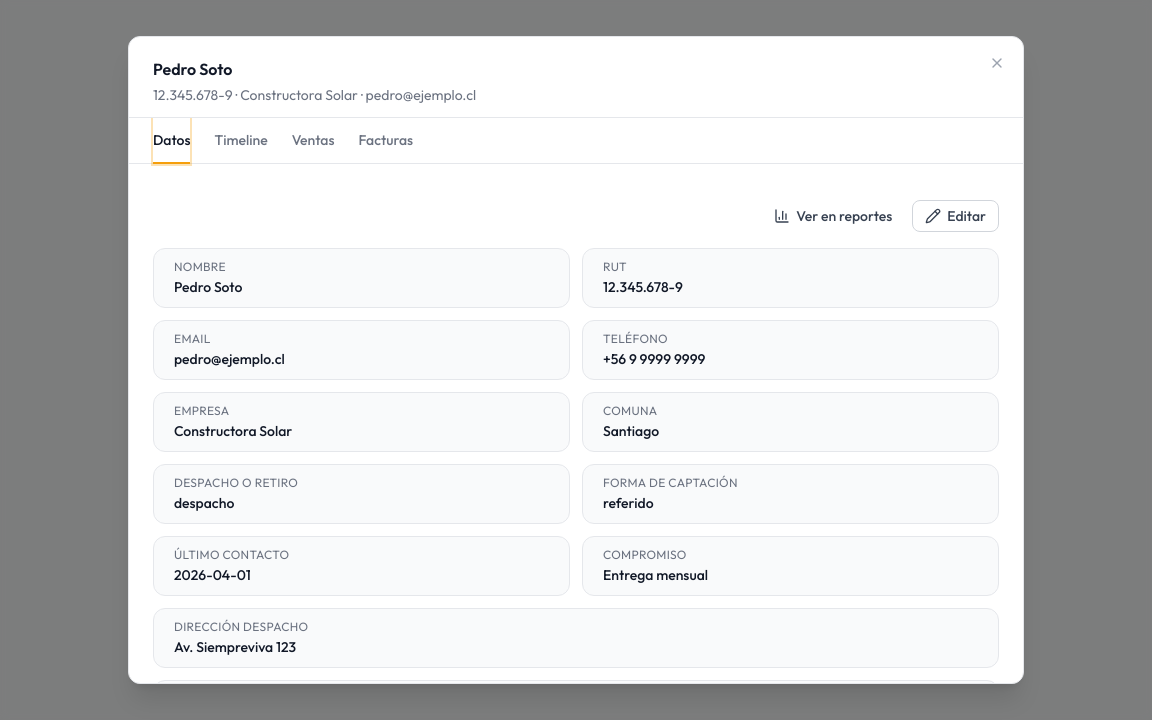
Scenario: ClienteDetailModal › 3. click "Facturas" tab shows EmptyState when no facturas
Click the tab "Facturas": x=386, y=141 [358,118,413,164]
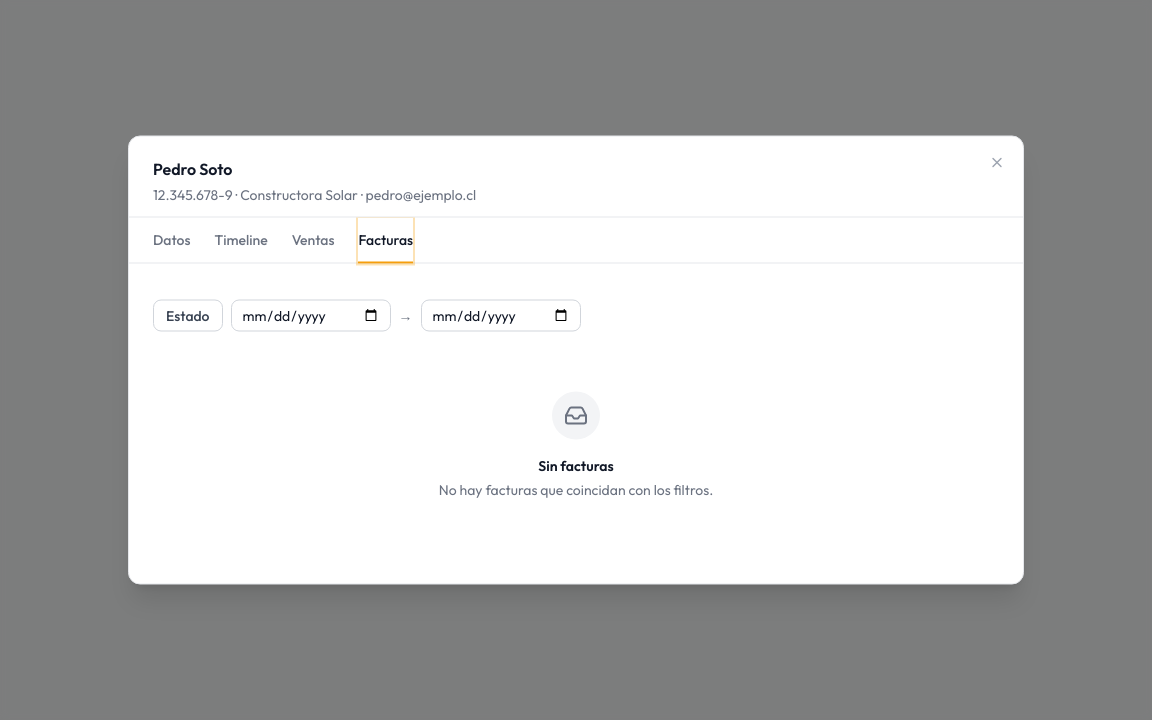
Expected: the heading "Sin facturas" is shown, [538,456,614,476]
